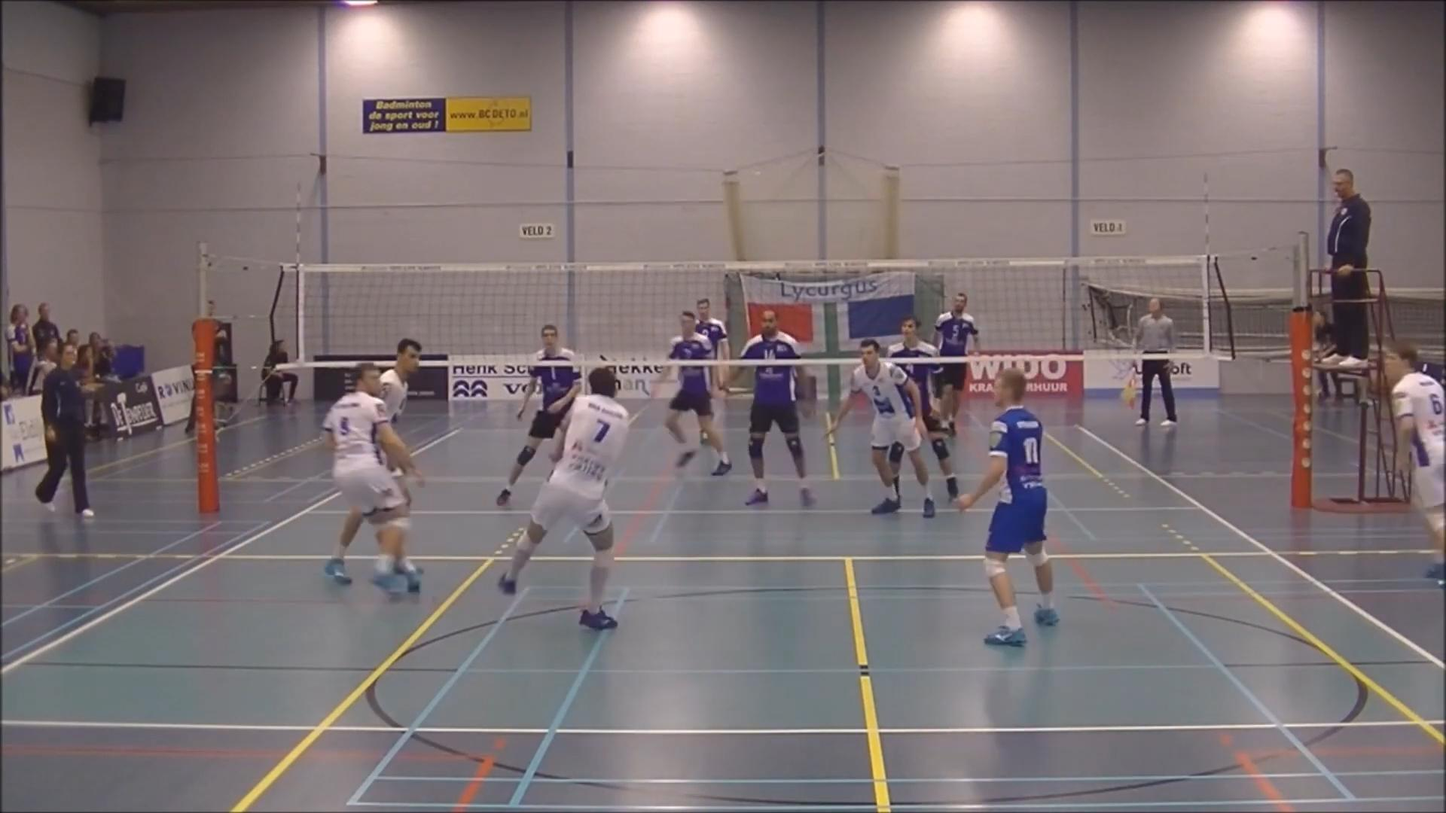ricezione: (496, 359, 643, 631)
